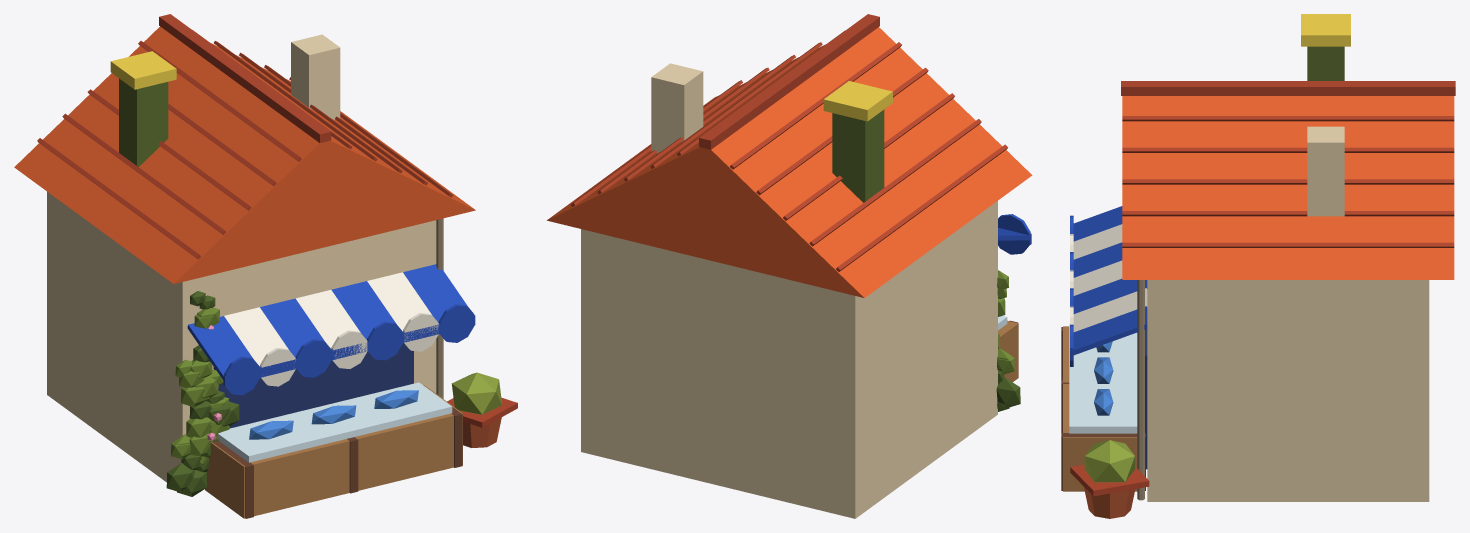
Rendered from fish_shop.glb.
The picture shows the model from 3 angles, left to right: view 1: azimuth 30°, elevation 25°; view 2: azimuth 150°, elevation 25°; view 3: azimuth 270°, elevation 25°; orthographic projection. The views are drawn at different scales.
Visible parts, largest first — view 1: fish_shop; view 2: fish_shop; view 3: fish_shop.
Boxes of the visible parts, x1=… form: fish_shop: x1=14, y1=14, x2=517, y2=518; fish_shop: x1=547, y1=14, x2=1032, y2=518; fish_shop: x1=1061, y1=14, x2=1455, y2=518.
Size of the model in its own units: 6.33 by 6.57 by 6.3.
